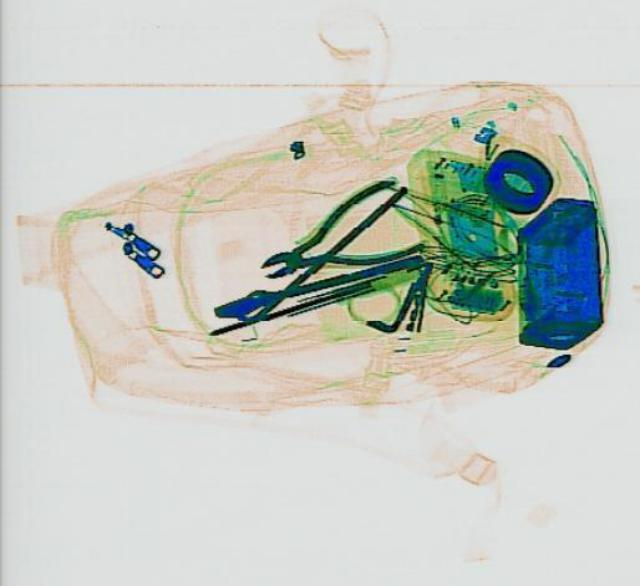Pliers: (244, 174, 431, 302)
